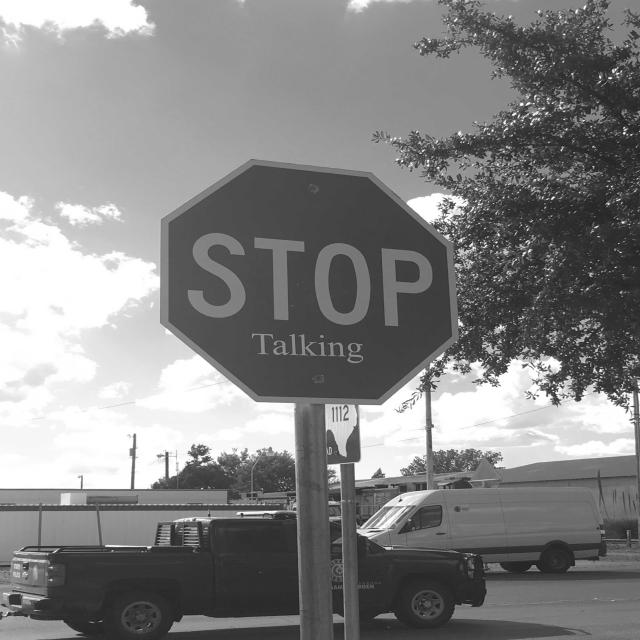Stop-sign: (143, 152, 470, 413)
